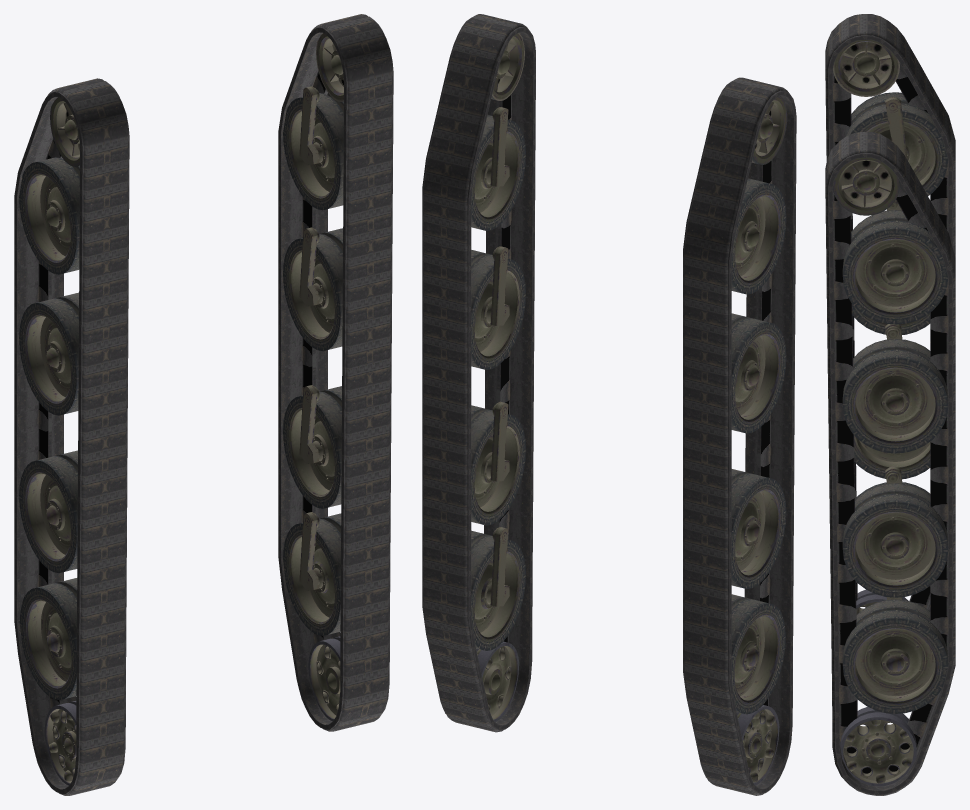
The model's file is Chassis.glb.
3 views of the same model, side by side, from view 1: azimuth 30°, elevation 25°; view 2: azimuth 150°, elevation 25°; view 3: azimuth 270°, elevation 25° (orthographic). The views are drawn at different scales.
Parts seen in each view (by area): view 1: set_2_group_0, set_3_group_0, set_0_group_0, set_1_group_0; view 2: set_2_group_0, set_3_group_0, set_0_group_0, set_1_group_0; view 3: set_0_group_0, set_3_group_0, set_1_group_0, set_2_group_0.
Part boxes in pixels (left/top/right/bottom): set_2_group_0: left=14, top=78, right=129, bottom=795; set_3_group_0: left=278, top=14, right=393, bottom=731; set_0_group_0: left=283, top=33, right=343, bottom=721; set_1_group_0: left=19, top=97, right=79, bottom=785; set_2_group_0: left=683, top=77, right=796, bottom=795; set_3_group_0: left=422, top=14, right=535, bottom=732; set_0_group_0: left=471, top=33, right=525, bottom=722; set_1_group_0: left=731, top=96, right=787, bottom=785; set_0_group_0: left=833, top=157, right=948, bottom=786; set_3_group_0: left=825, top=132, right=955, bottom=795; set_1_group_0: left=833, top=40, right=948, bottom=614; set_2_group_0: left=825, top=14, right=955, bottom=610.
Size of the model in its own units: 2.65 by 5.75 by 1.05.
4 materials, 4 textured.
